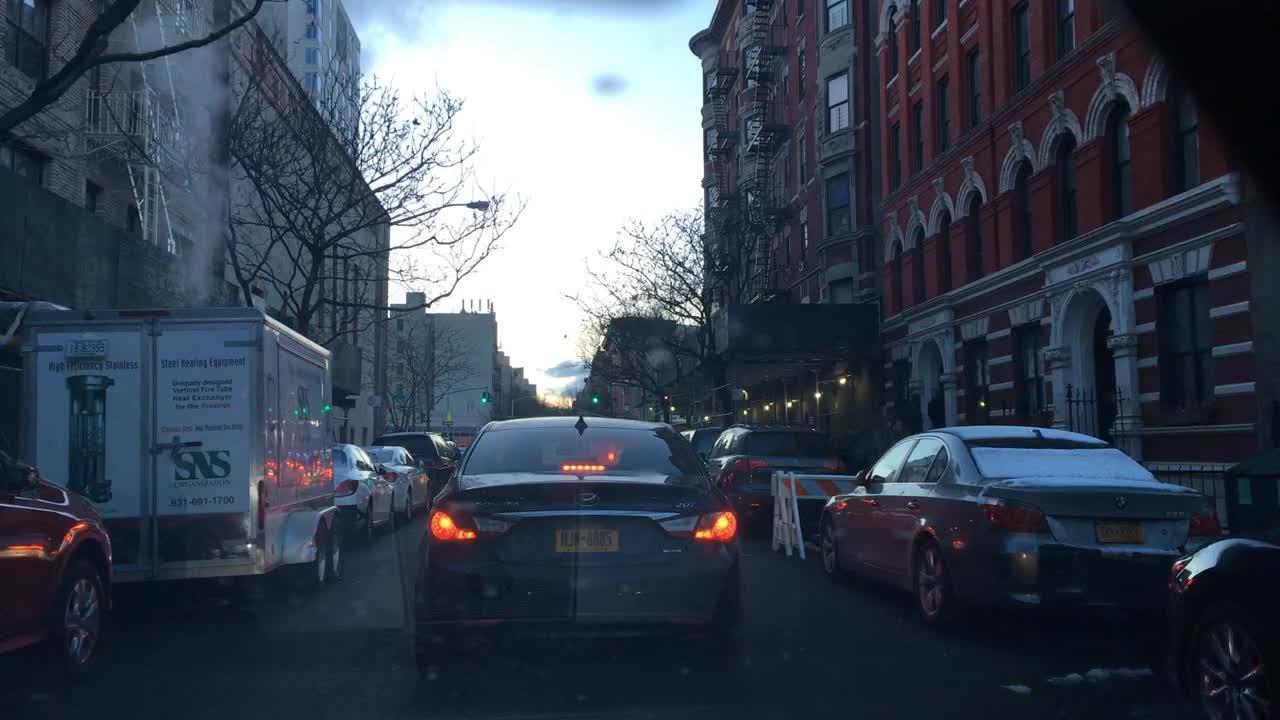Hyundai: (570, 483, 611, 515)
bmw: (1115, 492, 1129, 512)
